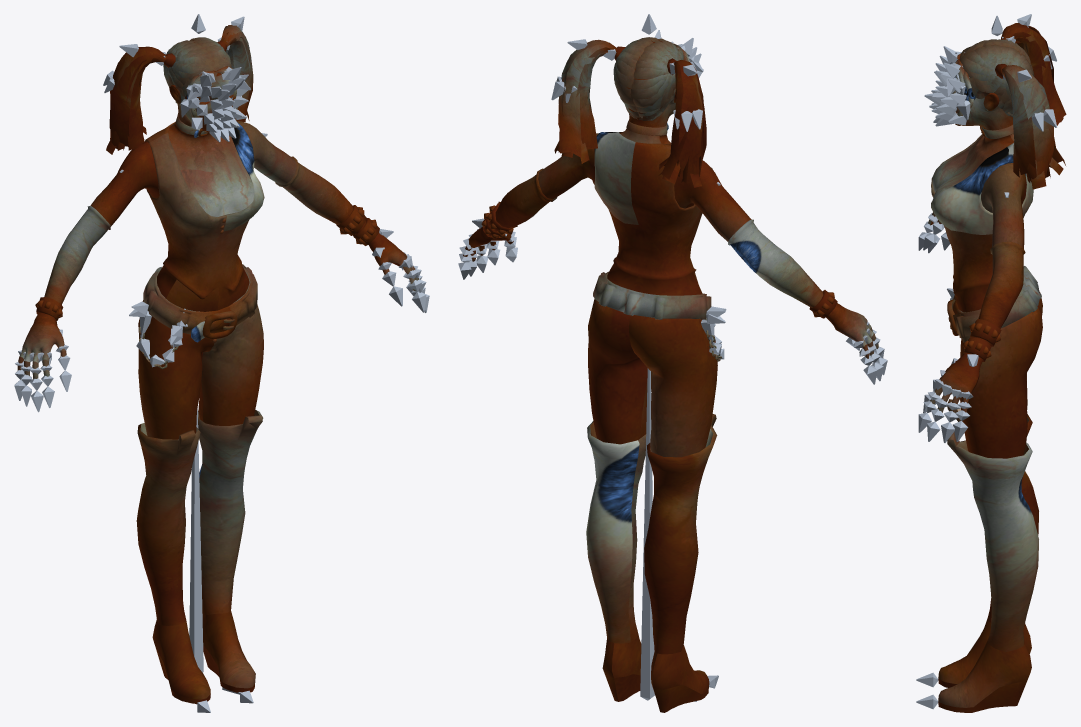
File: Harley.obj
The picture shows the model from 3 angles, left to right: view 1: azimuth 30°, elevation 25°; view 2: azimuth 150°, elevation 25°; view 3: azimuth 270°, elevation 25°; orthographic projection. The views are drawn at different scales.
Visible parts, largest first — view 1: body, armslegs, hair, hands, root_ground, head; view 2: body, armslegs, hair, root_ground, hands, head; view 3: body, armslegs, hair, hands, head.
Boxes of the visible parts, x1,y1,x2,y2 form: body: (35, 113, 379, 439); armslegs: (44, 156, 365, 703); hair: (106, 25, 253, 154); hands: (17, 232, 418, 378); root_ground: (189, 408, 203, 672); head: (164, 40, 232, 132); body: (481, 120, 837, 457); armslegs: (495, 168, 823, 712); hair: (554, 37, 706, 187); root_ground: (640, 368, 654, 700); hands: (463, 227, 878, 358); head: (614, 40, 678, 127); body: (931, 125, 1042, 458); armslegs: (938, 241, 1038, 712); hair: (952, 23, 1066, 189); hands: (928, 212, 982, 412); head: (955, 38, 1028, 130).
Size of the model in its own units: 44.11 by 69.46 by 13.81.
7 materials, 6 textured.
